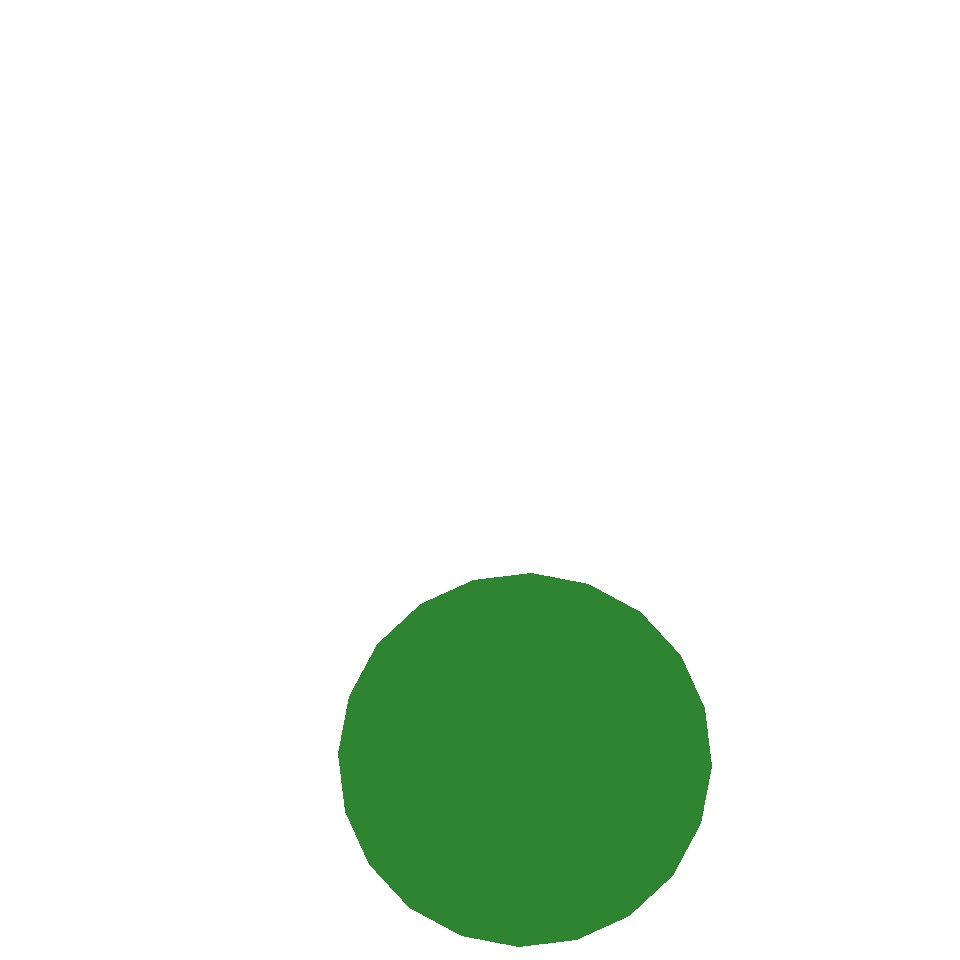circle: (388, 126, 602, 354)
square: (610, 658, 854, 902), (362, 706, 524, 868)
triangle: (338, 574, 712, 946), (211, 494, 582, 864)
